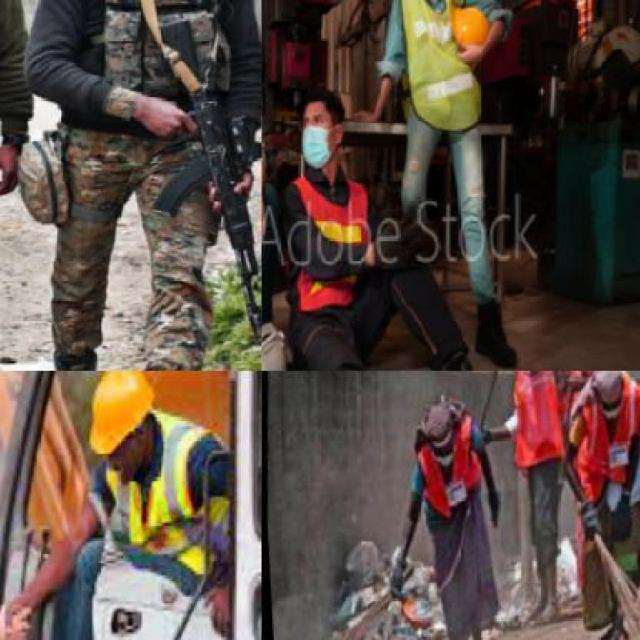Vest: (68, 0, 237, 175), (83, 420, 235, 602), (386, 0, 491, 145), (280, 177, 369, 321), (570, 398, 638, 504), (502, 371, 570, 475), (403, 435, 485, 520)
